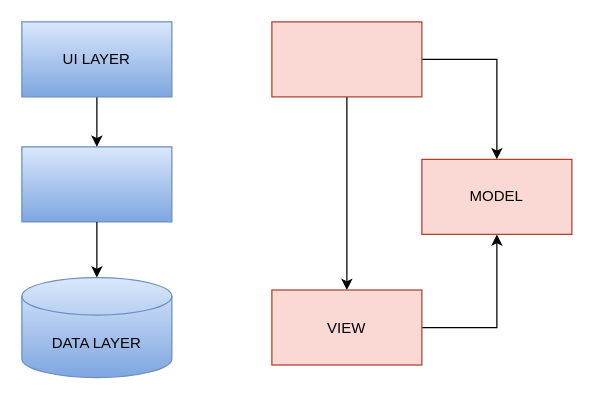
Some shapes in this 594 by 400 pixel diagram are drawn without their labels. The centre of each missing label's shape, as x and y in pixels:
BUSINESS LOGIC LAYER: (96,184)
CONTROLLER: (346,59)
